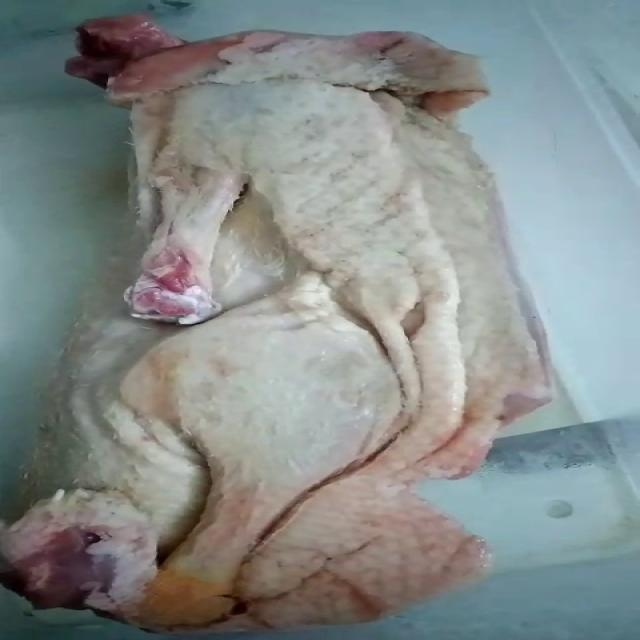chicken: (0, 15, 539, 640)
